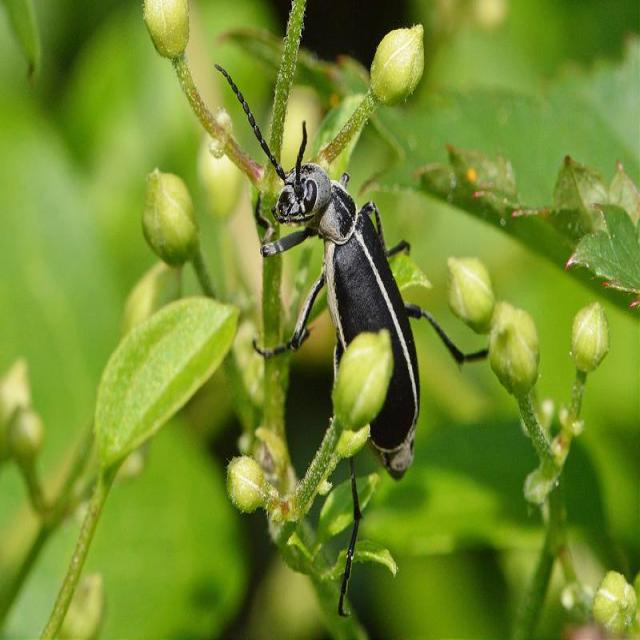BlisterBeetle-Adult-: (217, 58, 458, 492)
